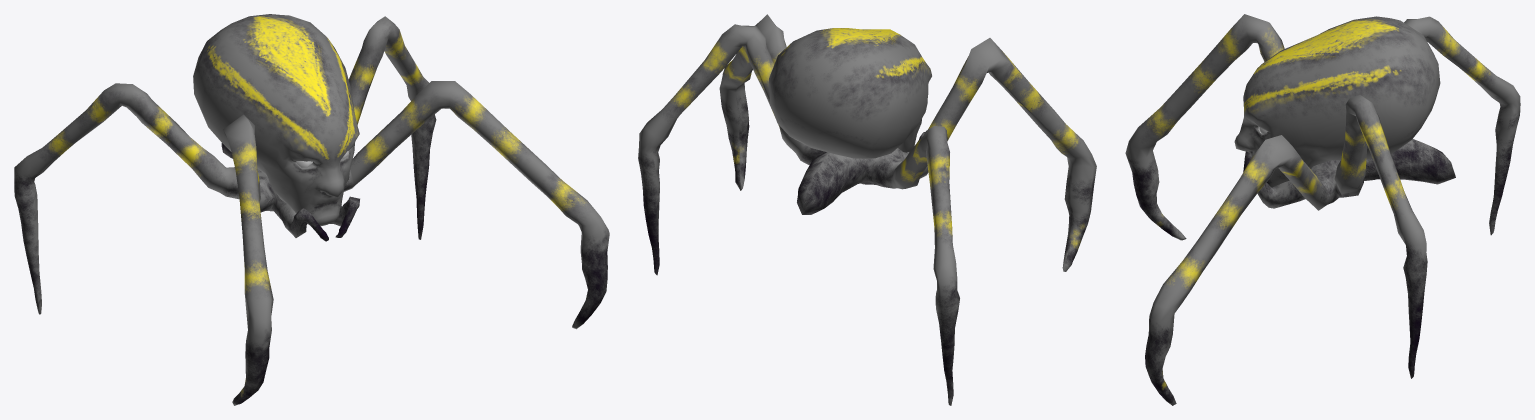
The model's file is spiderHead_frame1.obj.
The picture shows the model from 3 angles, left to right: view 1: azimuth 30°, elevation 25°; view 2: azimuth 150°, elevation 25°; view 3: azimuth 270°, elevation 25°; orthographic projection. The views are drawn at different scales.
Parts seen in each view (by area): view 1: spiderHead_frame1; view 2: spiderHead_frame1; view 3: spiderHead_frame1.
Boxes of the visible parts, bbox=[...] form: spiderHead_frame1: bbox=[14, 14, 609, 405]; spiderHead_frame1: bbox=[638, 14, 1096, 405]; spiderHead_frame1: bbox=[1125, 14, 1520, 405].
Bounding box in the file's own units: 7.69 × 5.17 × 6.35.
1 material, 1 textured.
